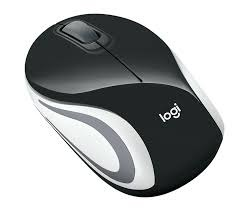mouse: (20, 9, 231, 201)
